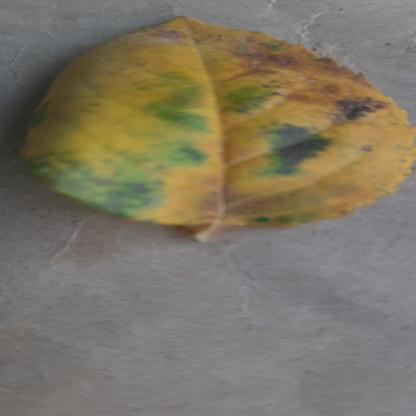black-spot: (16, 18, 410, 232)
